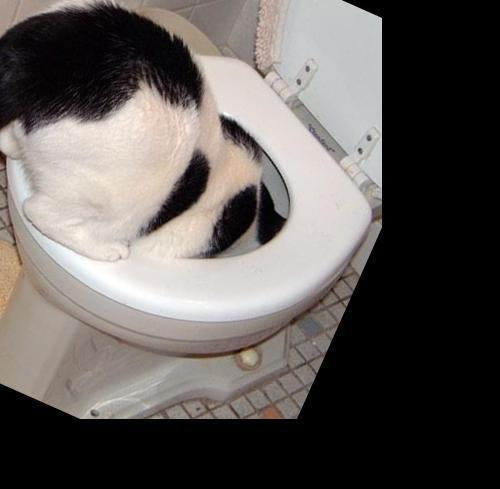Otro Obstaculo: (0, 0, 366, 441)
Sanitario: (0, 0, 459, 489)
